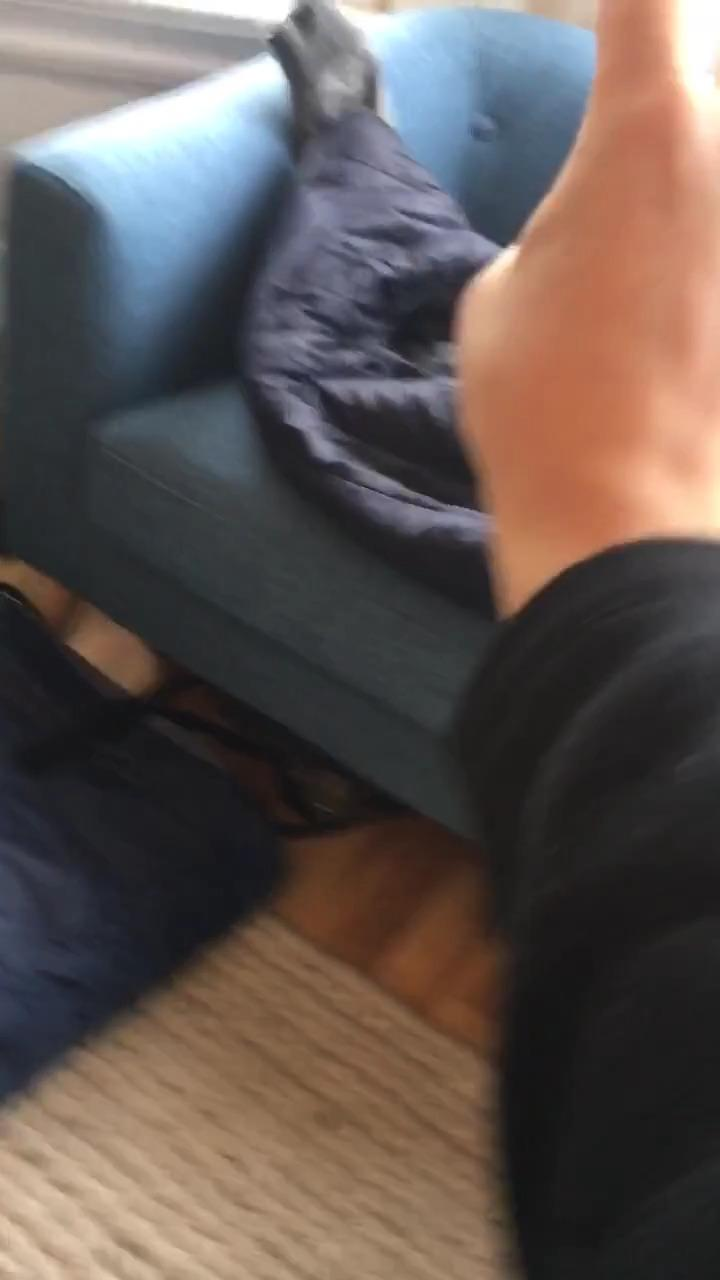Scissors: (450, 2, 720, 524)
